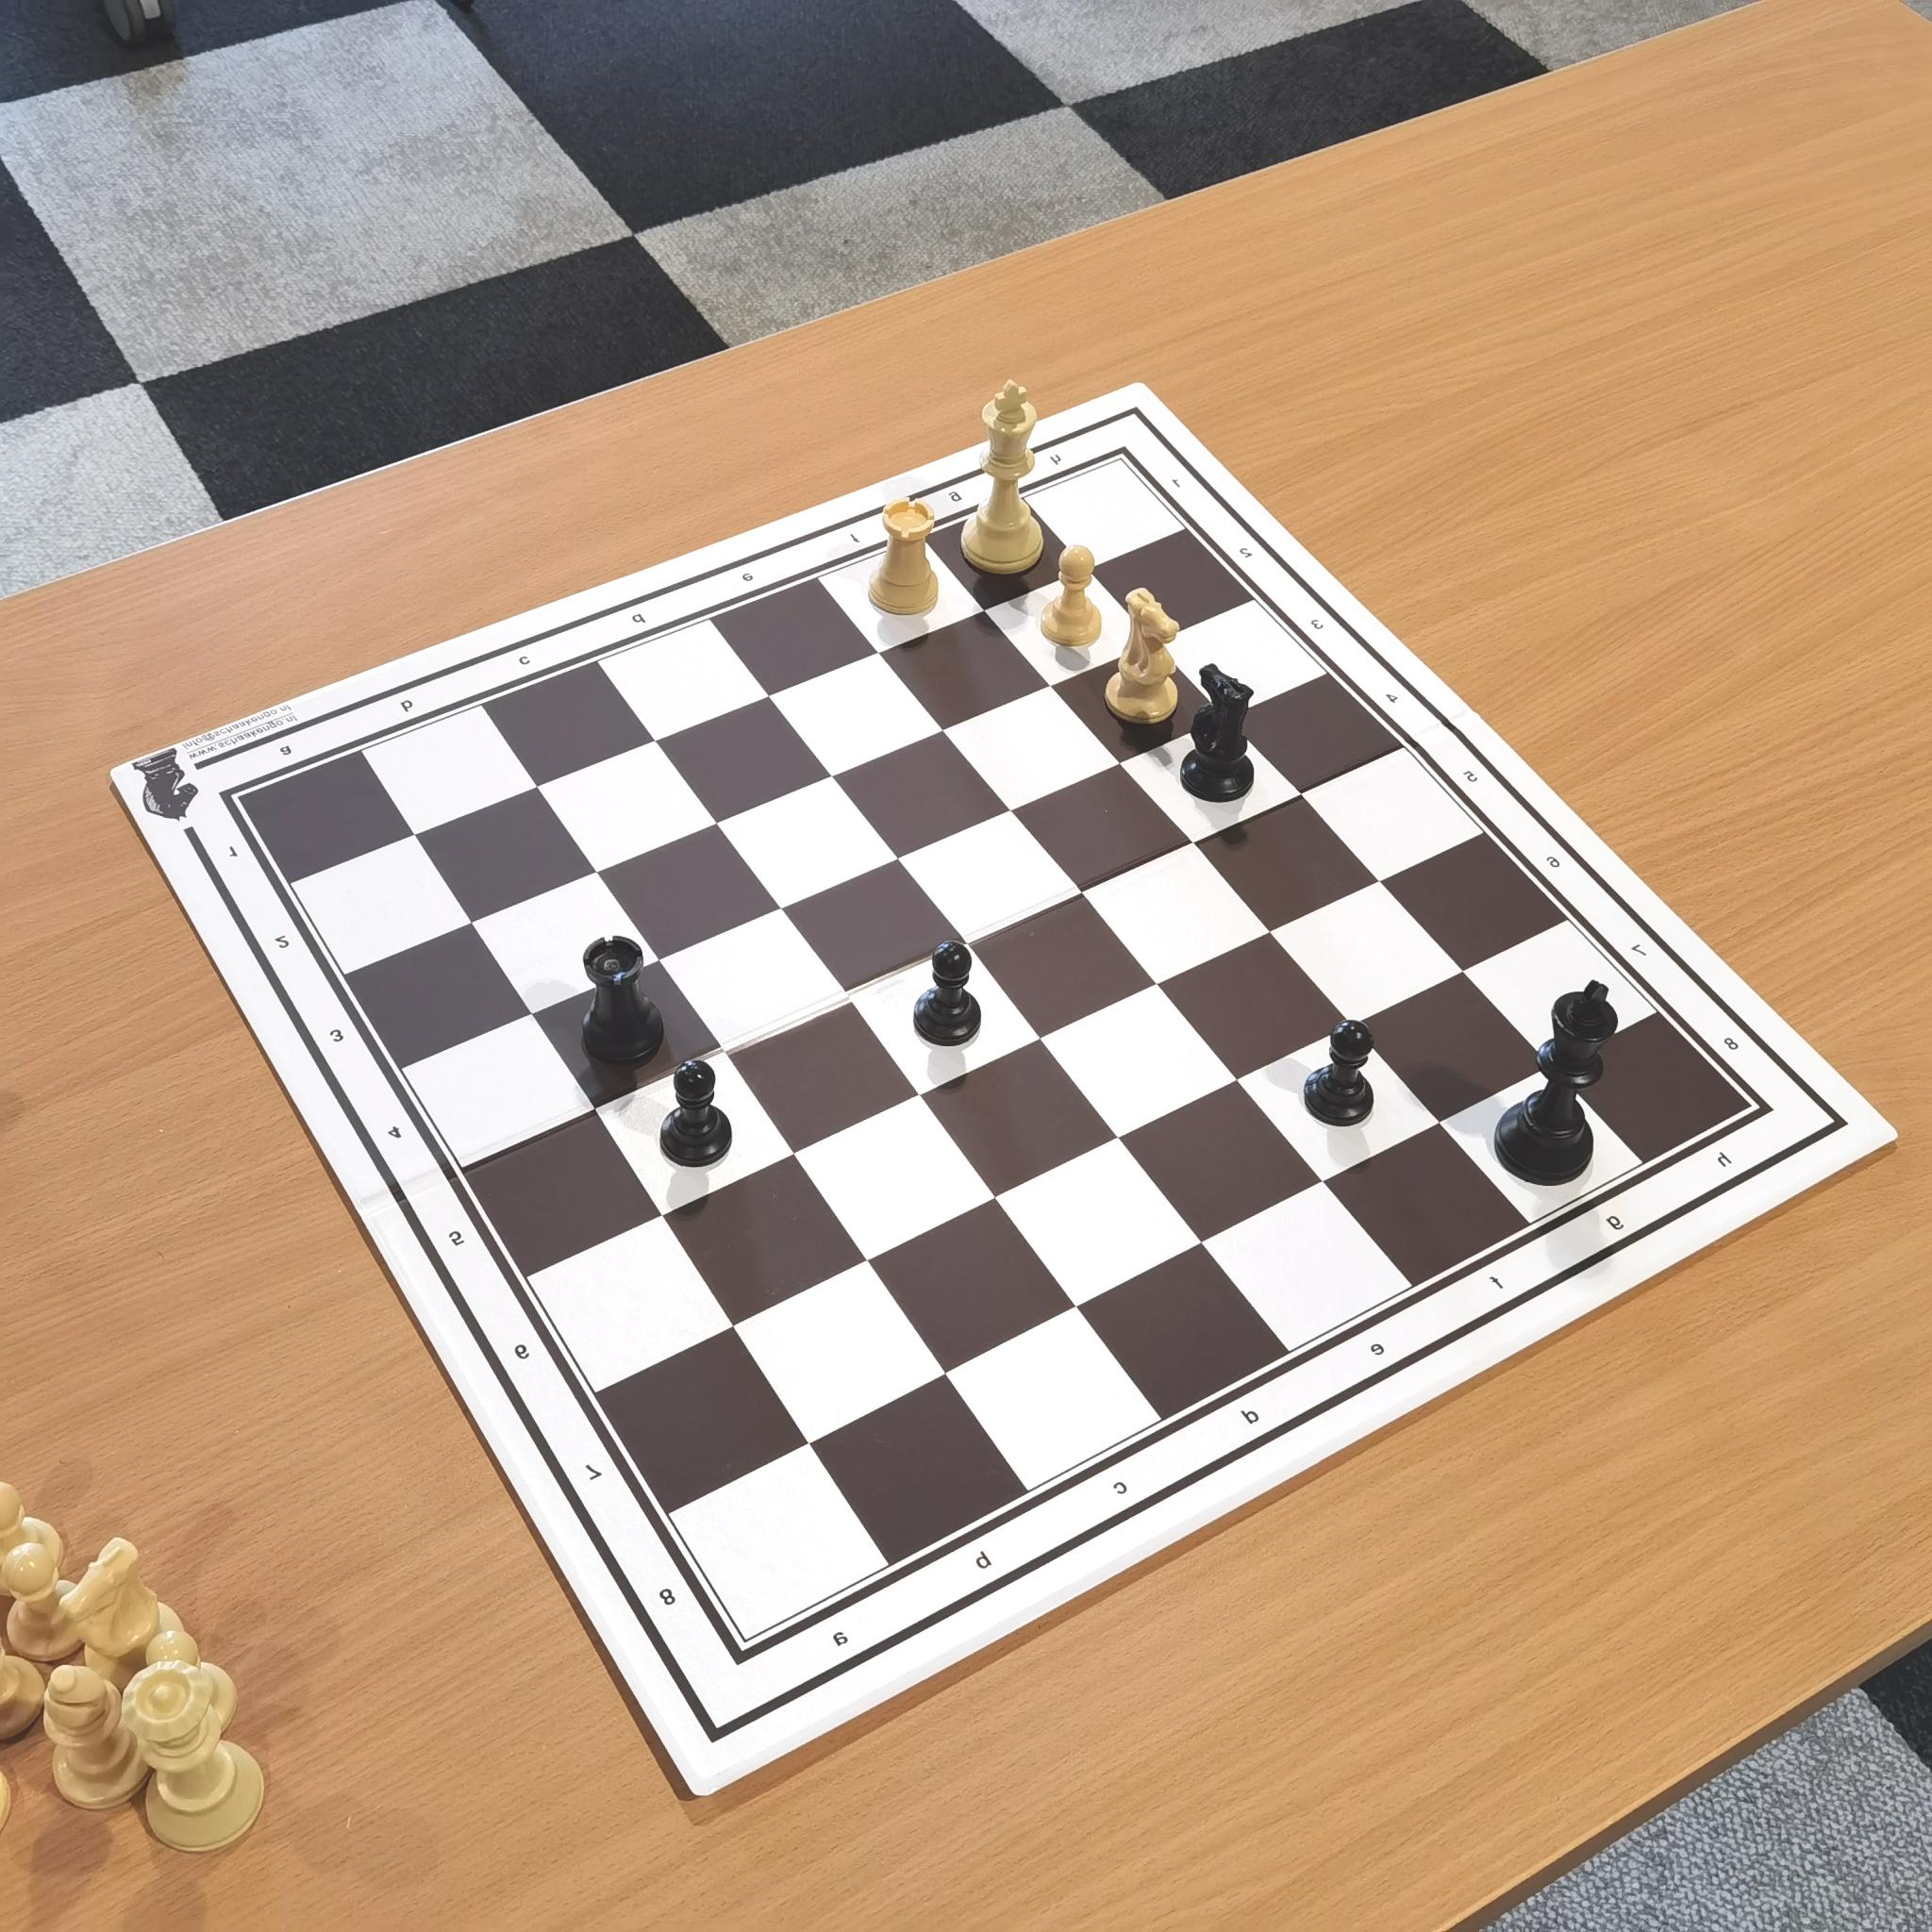corners: (709, 1628, 771, 1688), (196, 786, 260, 830), (1725, 1086, 1785, 1132), (1090, 442, 1139, 483)
eight: (1700, 1021, 1757, 1074), (639, 1569, 688, 1621)
one: (205, 828, 251, 870), (1157, 462, 1192, 499)
